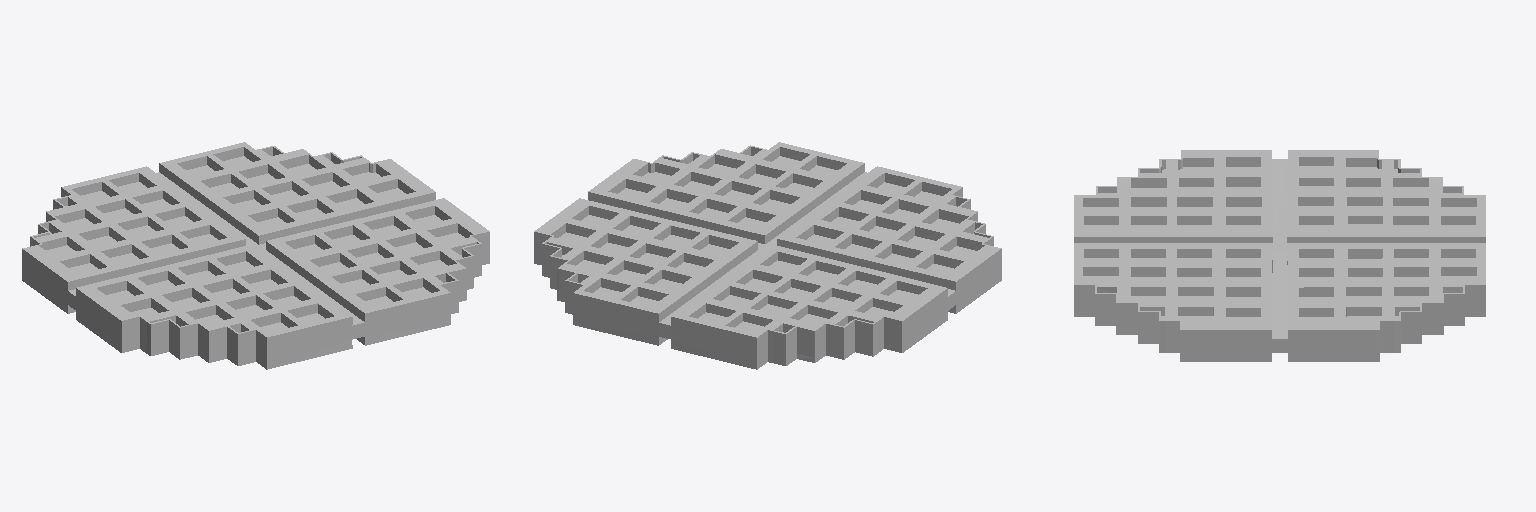
File: bitwaffle.obj
3 views of the same model, side by side, from view 1: azimuth 30°, elevation 25°; view 2: azimuth 150°, elevation 25°; view 3: azimuth 270°, elevation 25° (orthographic).
Bounding box in the file's own units: 3 × 0.251 × 2.91.